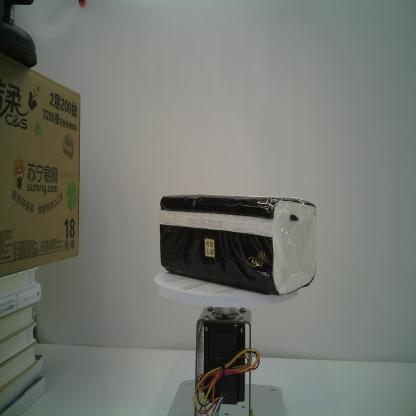Tissue: (160, 193, 316, 295)
